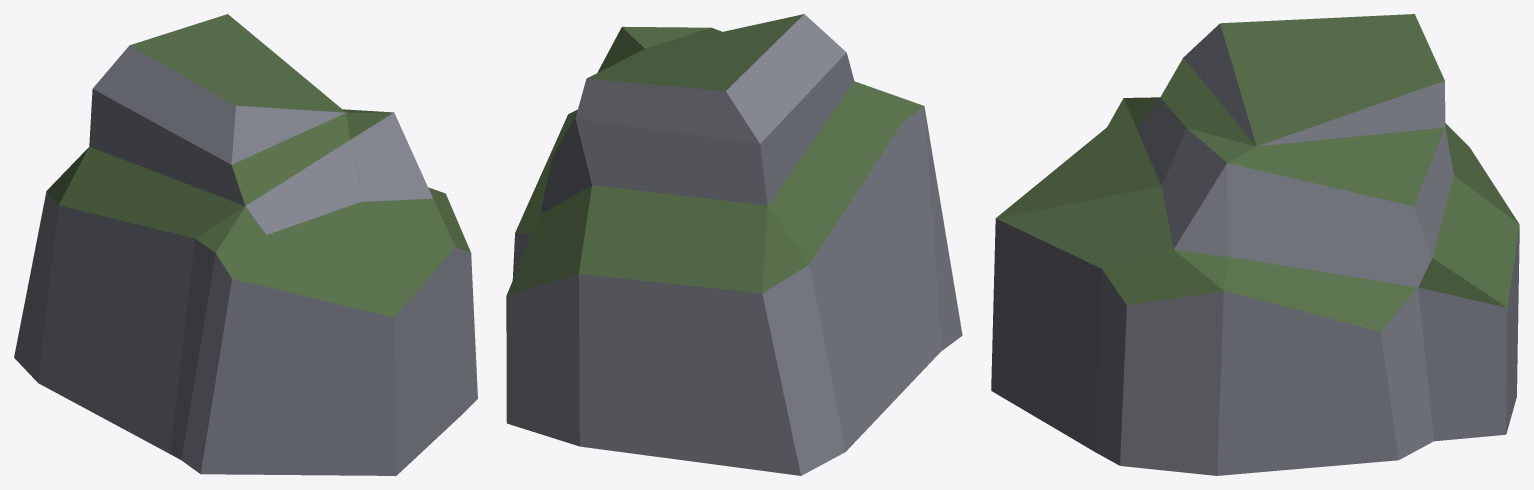
The model's file is Blends_Rock_Moss_7.glb.
The picture shows the model from 3 angles, left to right: view 1: azimuth 30°, elevation 25°; view 2: azimuth 150°, elevation 25°; view 3: azimuth 270°, elevation 25°; orthographic projection. The views are drawn at different scales.
Visible parts, largest first — view 1: Rock_Moss_7; view 2: Rock_Moss_7; view 3: Rock_Moss_7.
Boxes of the visible parts, x1,y1,x2,y2 form: Rock_Moss_7: (14,14,477,475); Rock_Moss_7: (506,14,962,475); Rock_Moss_7: (991,14,1519,475).
Size of the model in its own units: 0.8755 by 0.7739 by 1.1.
